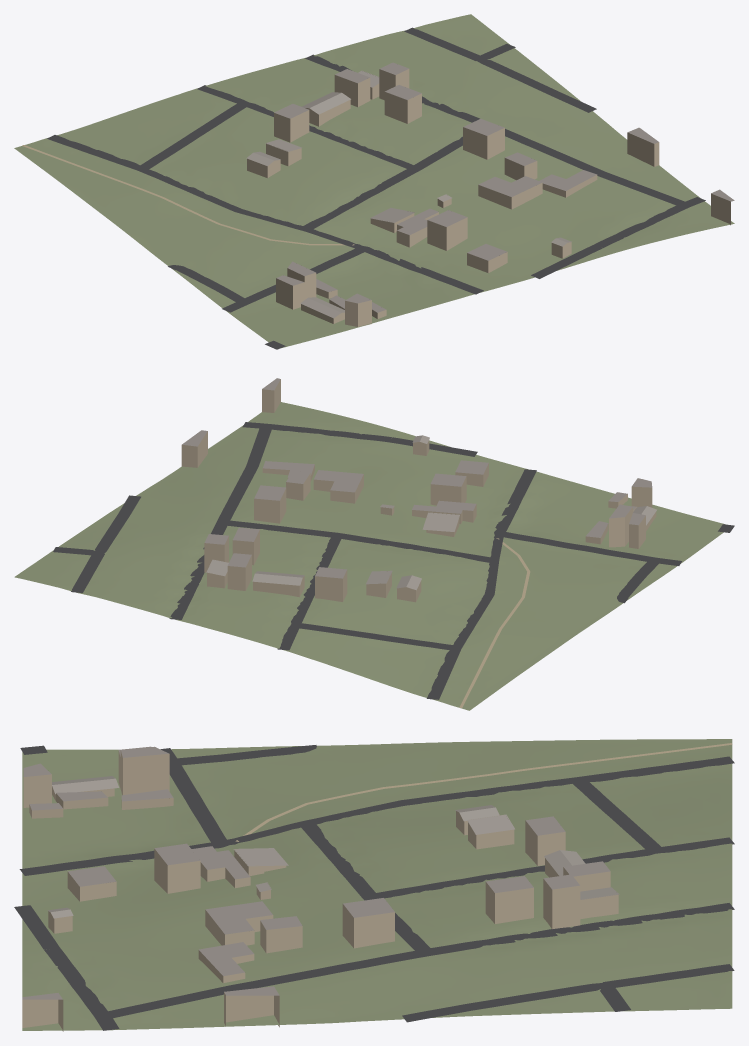
3 renders of one model, top to bottom at view 1: azimuth 30°, elevation 25°; view 2: azimuth 150°, elevation 25°; view 3: azimuth 270°, elevation 25°, orthographic. The views are drawn at different scales.
Visible parts, largest first — view 1: ground, walls, road, roofs, sheetRoofs, path; view 2: ground, road, walls, roofs, sheetRoofs, path; view 3: ground, road, walls, roofs, sheetRoofs, path.
Part boxes in pixels (left/top/right/bottom): ground: left=14, top=14, right=734, bottom=348; walls: left=247, top=69, right=730, bottom=326; road: left=47, top=27, right=705, bottom=349; roofs: left=274, top=62, right=734, bottom=312; sheetRoofs: left=246, top=70, right=571, bottom=318; path: left=22, top=145, right=354, bottom=245; ground: left=14, top=402, right=724, bottom=710; road: left=53, top=422, right=734, bottom=699; walls: left=181, top=379, right=656, bottom=602; roofs: left=182, top=378, right=652, bottom=578; sheetRoofs: left=206, top=435, right=656, bottom=590; path: left=459, top=538, right=530, bottom=707; ground: left=22, top=739, right=732, bottom=1030; road: left=14, top=745, right=734, bottom=1030; walls: left=22, top=750, right=618, bottom=1031; roofs: left=22, top=746, right=610, bottom=999; sheetRoofs: left=47, top=776, right=619, bottom=918; path: left=235, top=743, right=732, bottom=841.
Bounding box in the file's own units: 256 × 29.39 × 254.
